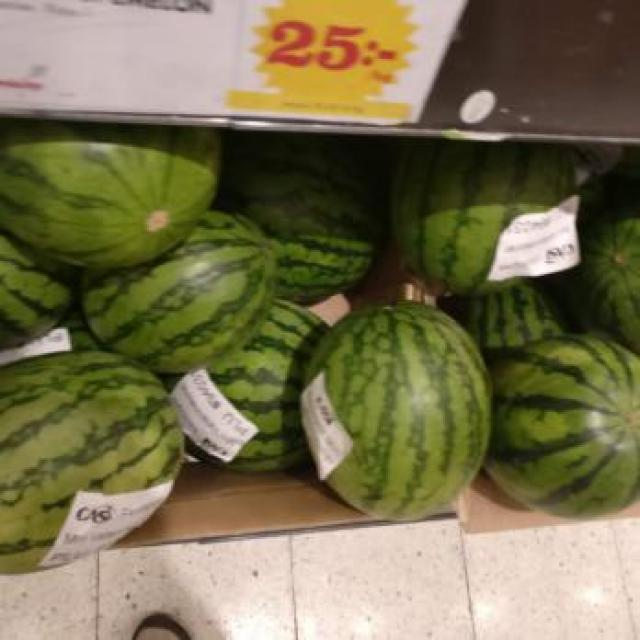Watermelon: (0, 350, 186, 576), (303, 302, 493, 518), (4, 114, 222, 269), (83, 210, 283, 373), (394, 138, 576, 296), (493, 338, 638, 518), (219, 142, 379, 304)
